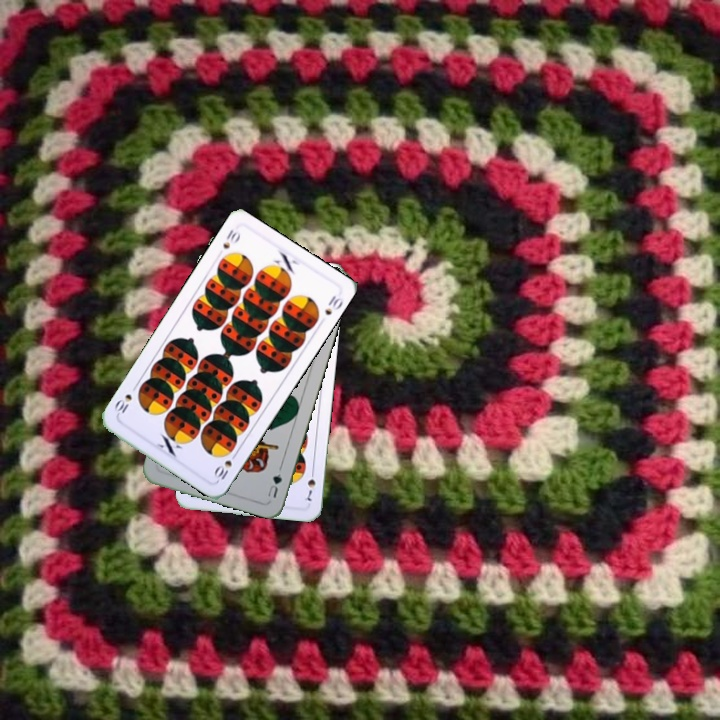GU: (263, 463, 285, 500)
S10: (210, 448, 240, 482), (219, 225, 243, 251)
S7: (301, 465, 318, 504)
